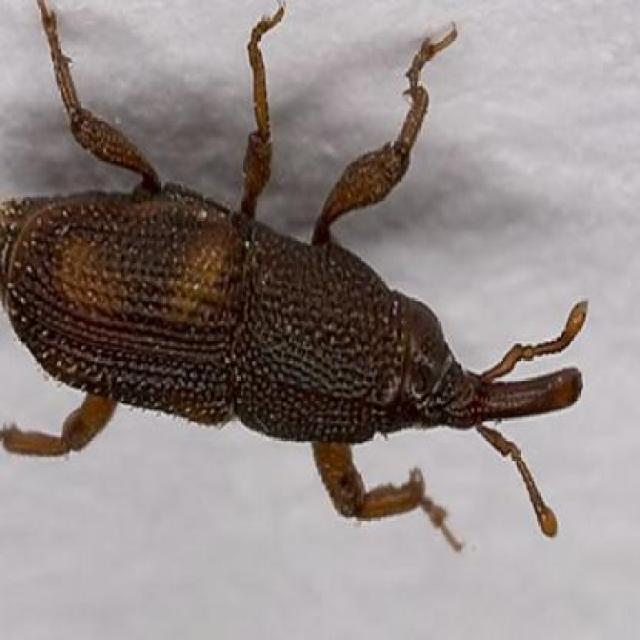rice-bug: (3, 166, 586, 472)
